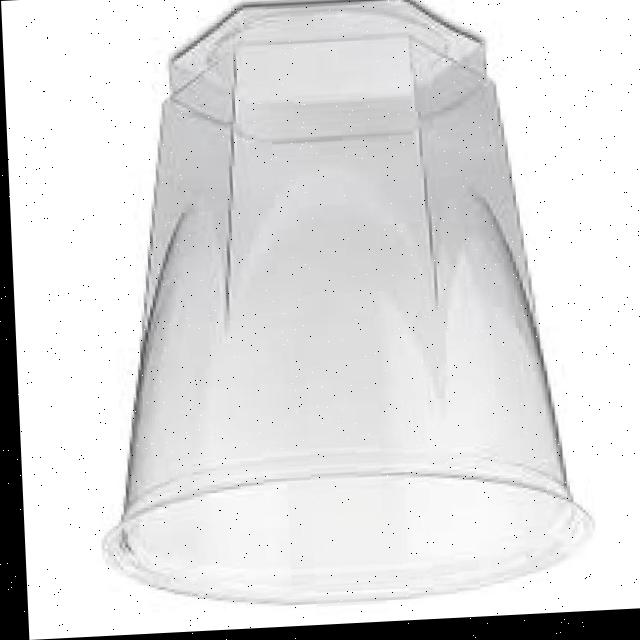cup: (64, 0, 594, 628)
